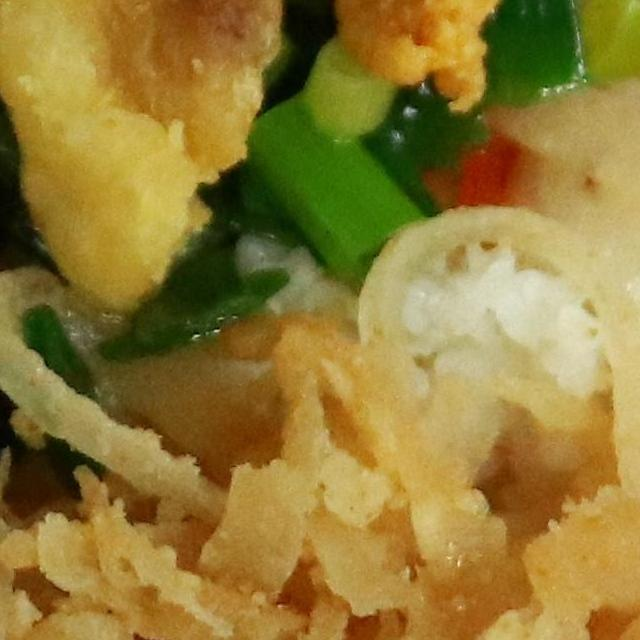bi: (0, 268, 640, 640)
com suon bi trung: (0, 0, 640, 640)
